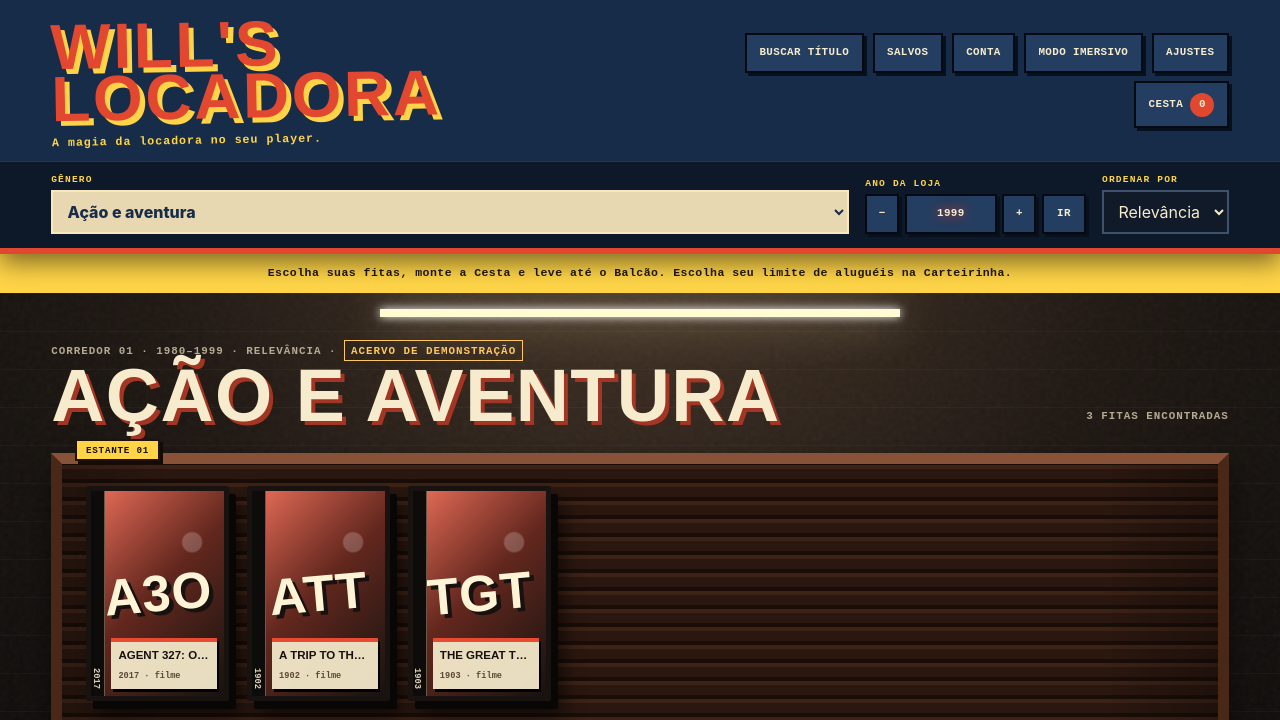
Test case: accessible Locadora shelf › keeps the settings drawer free of the native player banner and exposes only the tape master switch
The image size is (1280, 720).
Click the button "Ajustes" at (1190, 53), box [1152, 33, 1229, 73]
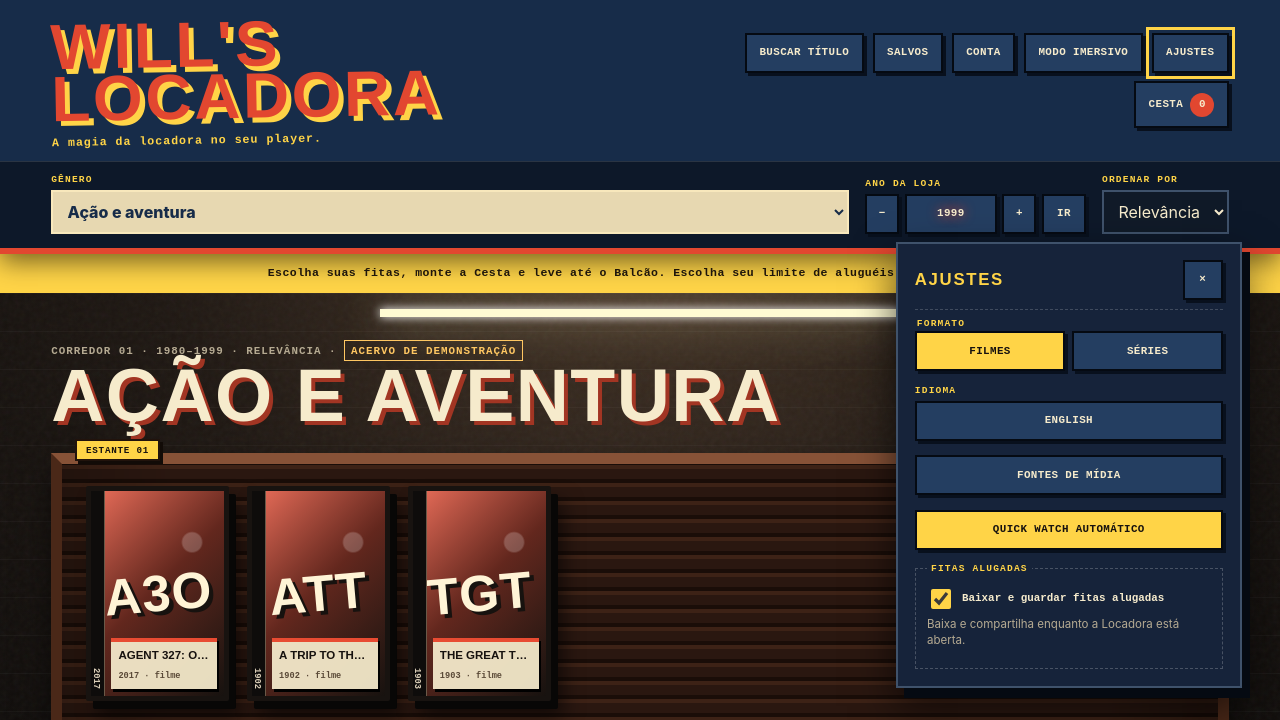
Expected: the element "Ajustes" does not show "Player:", [896, 242, 1242, 688]
Now the checkbox labelled "Baixar e guardar fitas alugadas" is shown, box [931, 589, 951, 609]
